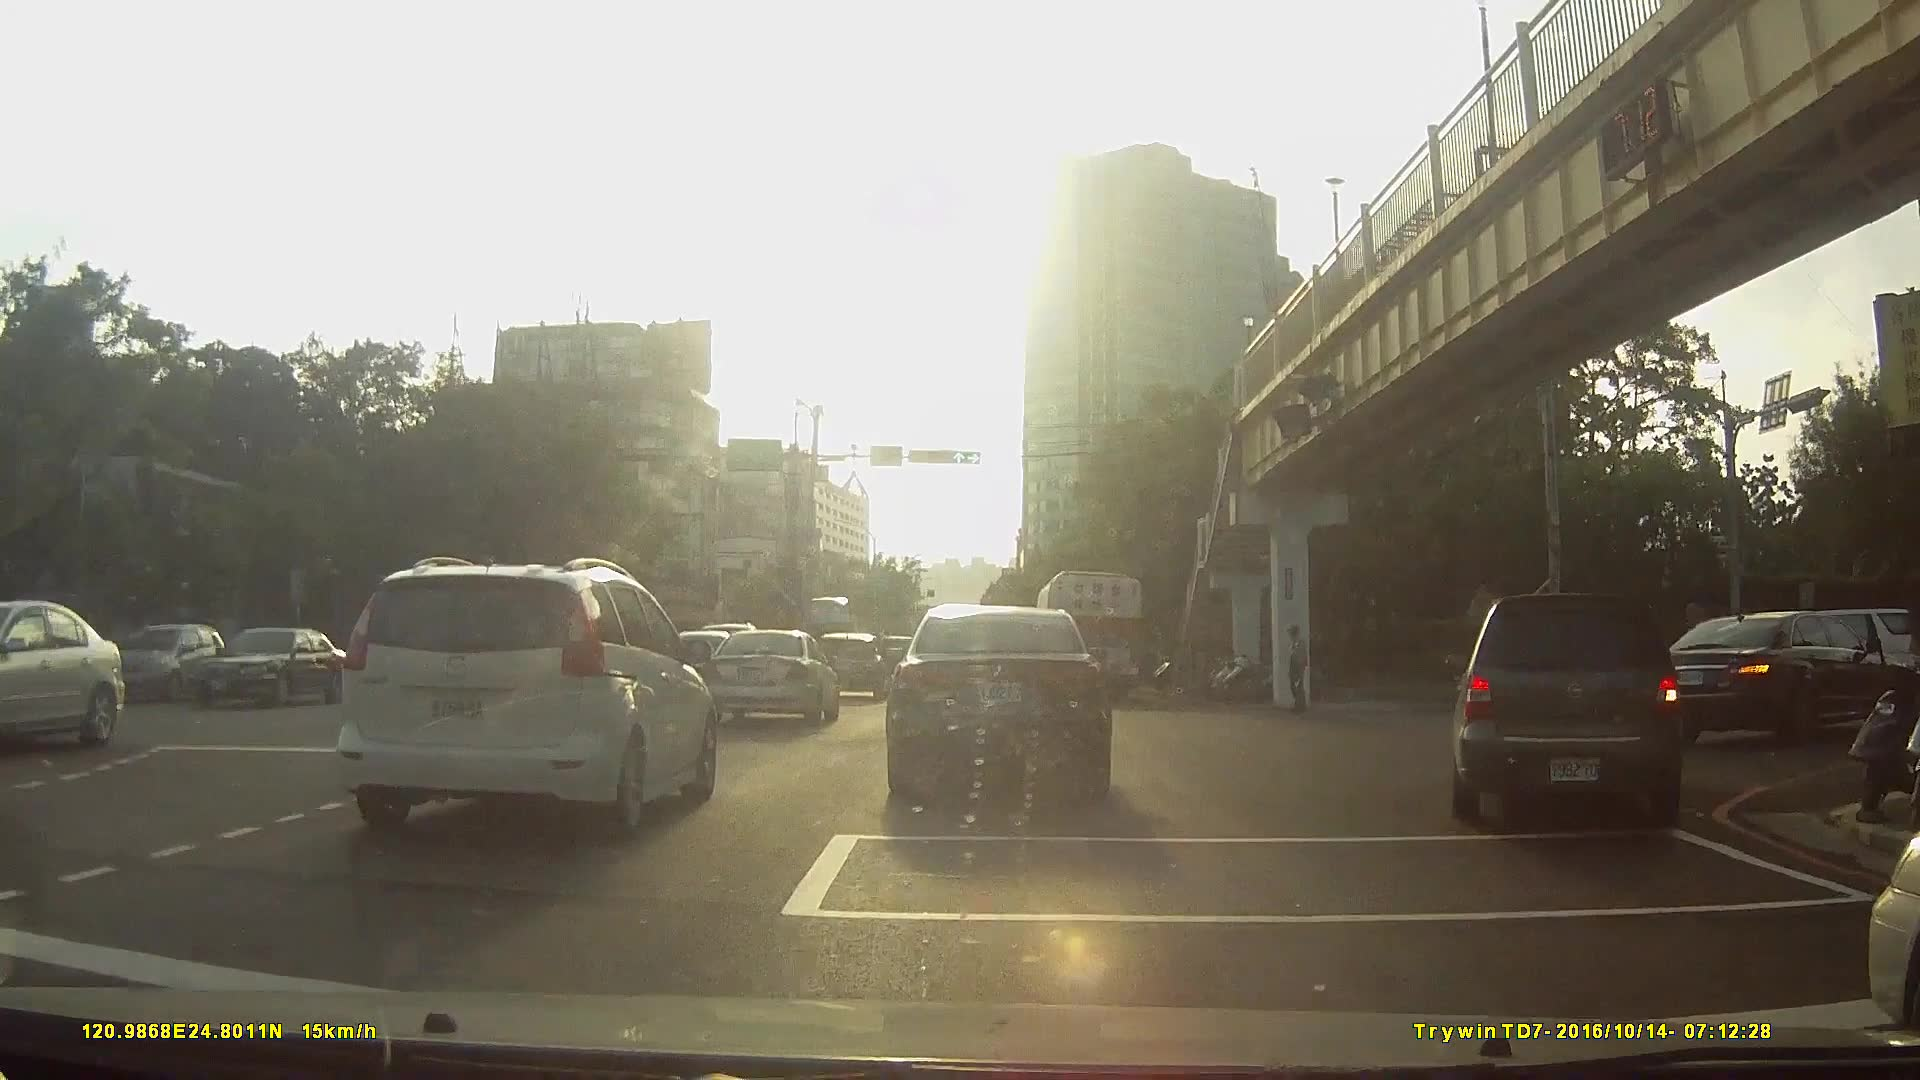pedestrian: (1281, 622, 1319, 718)
vehicle: (337, 552, 720, 838), (1441, 586, 1698, 829), (886, 599, 1111, 809), (1642, 610, 1899, 747), (6, 599, 144, 755), (154, 626, 365, 722), (1032, 567, 1143, 703), (704, 628, 842, 729), (96, 623, 229, 705), (815, 631, 891, 702)
